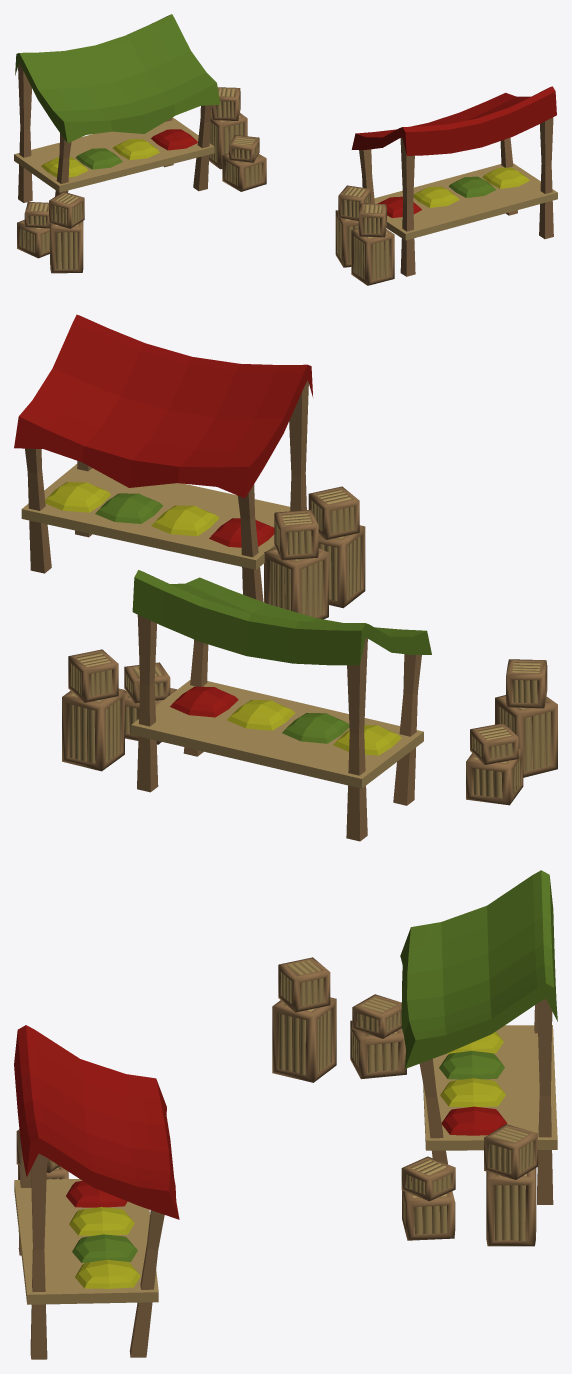
The model's file is market-stalls.glb.
3 views of the same model, one above another, from view 1: azimuth 30°, elevation 25°; view 2: azimuth 150°, elevation 25°; view 3: azimuth 270°, elevation 25° (orthographic). The views are drawn at different scales.
Parts seen in each view (by area): view 1: Market_FirstAge_Level1; view 2: Market_FirstAge_Level1; view 3: Market_FirstAge_Level1.
Part boxes in pixels (box(x1,y1,x2,y2)): Market_FirstAge_Level1: box(14, 14, 557, 285); Market_FirstAge_Level1: box(14, 314, 557, 841); Market_FirstAge_Level1: box(14, 870, 557, 1359).
Size of the model in its own units: 1.62 by 0.5515 by 1.22.
Materials: 1 (1 with a texture image).
